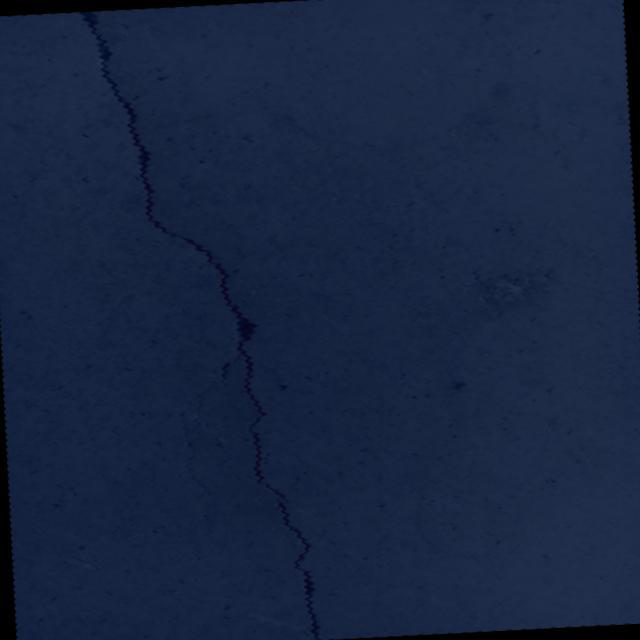crack: (78, 1, 321, 640), (181, 423, 231, 576), (116, 187, 142, 215)
